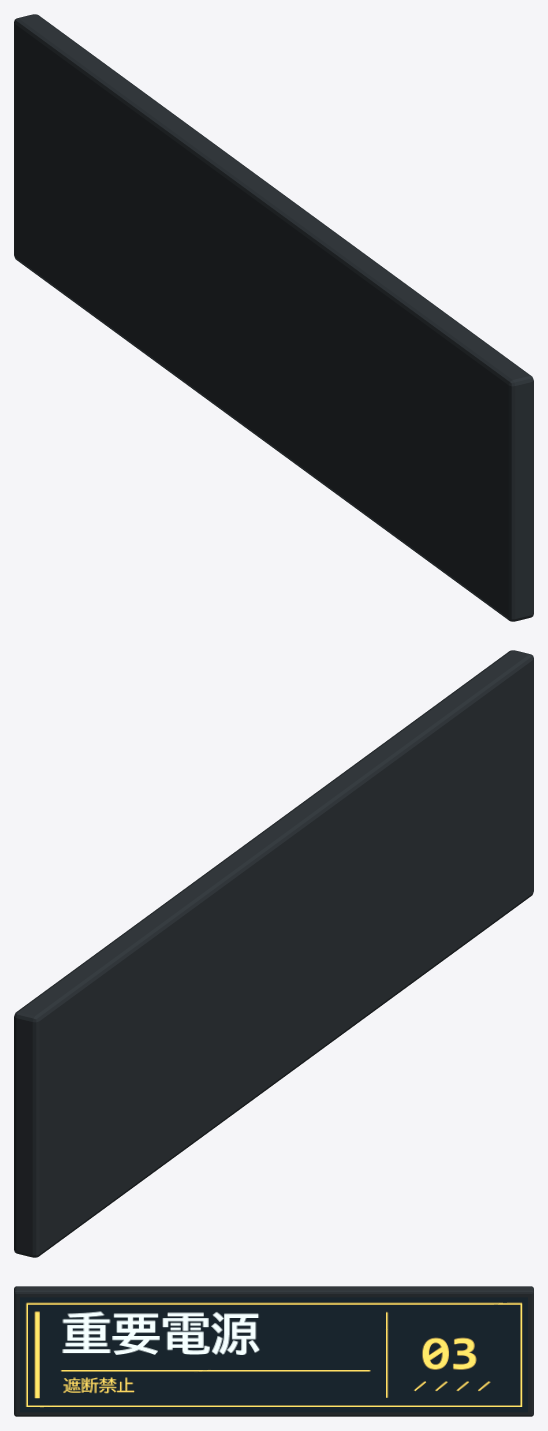
The model's file is critical-power-03.glb.
The picture shows the model from 3 angles, top to bottom: view 1: azimuth 30°, elevation 25°; view 2: azimuth 150°, elevation 25°; view 3: azimuth 270°, elevation 25°; orthographic projection. The views are drawn at different scales.
Visible parts, largest first — view 1: Critical power sign | graphite housing; view 2: Critical power sign | graphite housing; view 3: Critical power sign | label face, Critical power sign | graphite housing.
Boxes of the visible parts, left/top/right/bottom form: Critical power sign | graphite housing: left=14, top=14, right=533, bottom=621; Critical power sign | graphite housing: left=14, top=650, right=533, bottom=1257; Critical power sign | label face: left=20, top=1297, right=527, bottom=1412; Critical power sign | graphite housing: left=14, top=1286, right=533, bottom=1416.
Size of the model in its own units: 0.031 by 0.279 by 1.04.
2 materials, 1 textured.
